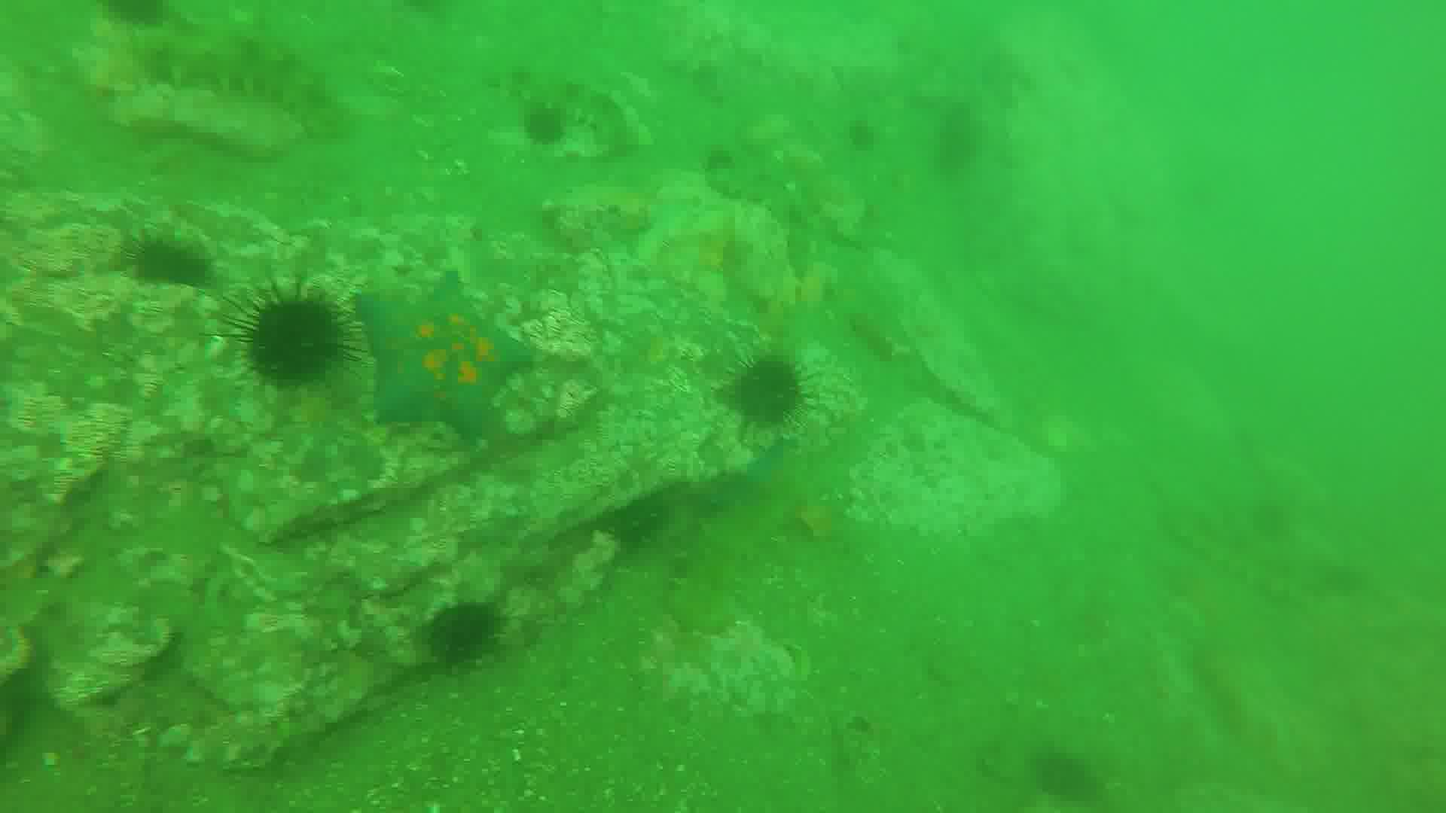echinus: (673, 464, 792, 635), (153, 29, 345, 131), (1164, 501, 1292, 602), (707, 160, 806, 234), (570, 82, 636, 154)
holothurian: (358, 260, 536, 440)
starfish: (237, 287, 353, 389), (729, 354, 805, 437), (124, 239, 210, 296), (430, 608, 503, 673), (619, 491, 673, 550), (526, 102, 574, 151)
